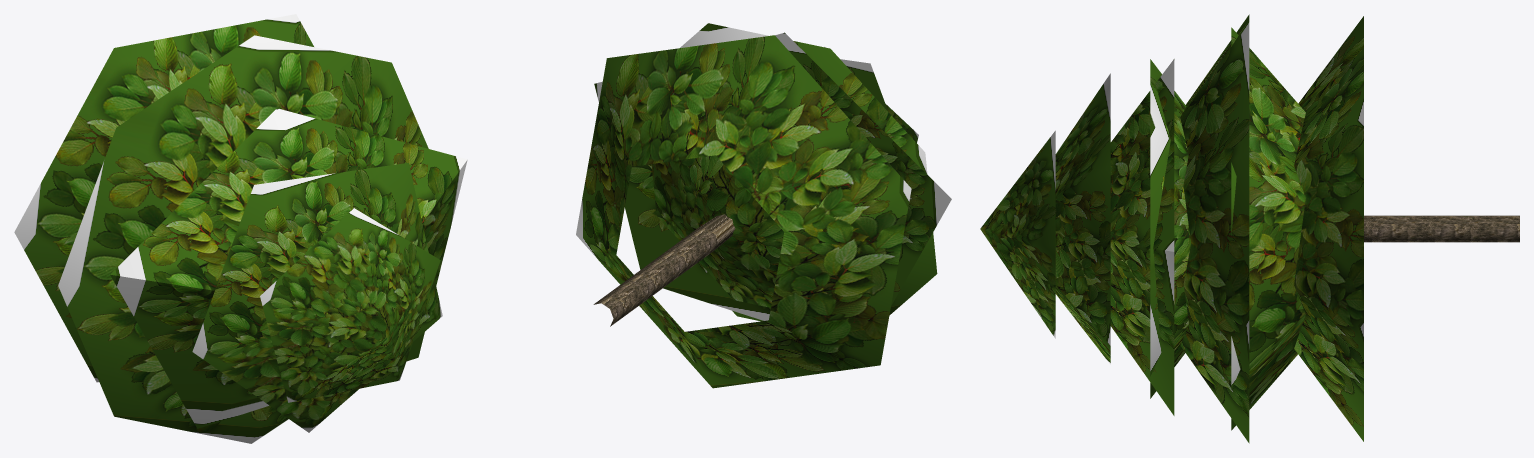
File: xss_x06.gltf
3 views of the same model, side by side, from view 1: azimuth 30°, elevation 25°; view 2: azimuth 150°, elevation 25°; view 3: azimuth 270°, elevation 25° (orthographic).
Parts seen in each view (by area): view 1: huitugou_2195_109; view 2: huitugou_2195_109; view 3: huitugou_2195_109.
Boxes of the visible parts, left/top/right/bottom form: huitugou_2195_109: left=14, top=14, right=467, bottom=443; huitugou_2195_109: left=576, top=23, right=951, bottom=388; huitugou_2195_109: left=980, top=14, right=1519, bottom=443.
Size of the model in its own units: 15.93 by 15.93 by 18.84.
Materials: 2 (2 with a texture image).
